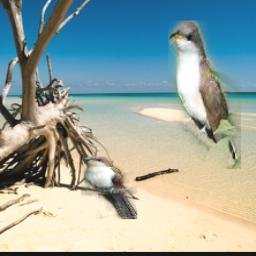Cuckoo: (170, 22, 242, 170), (82, 158, 138, 220)
